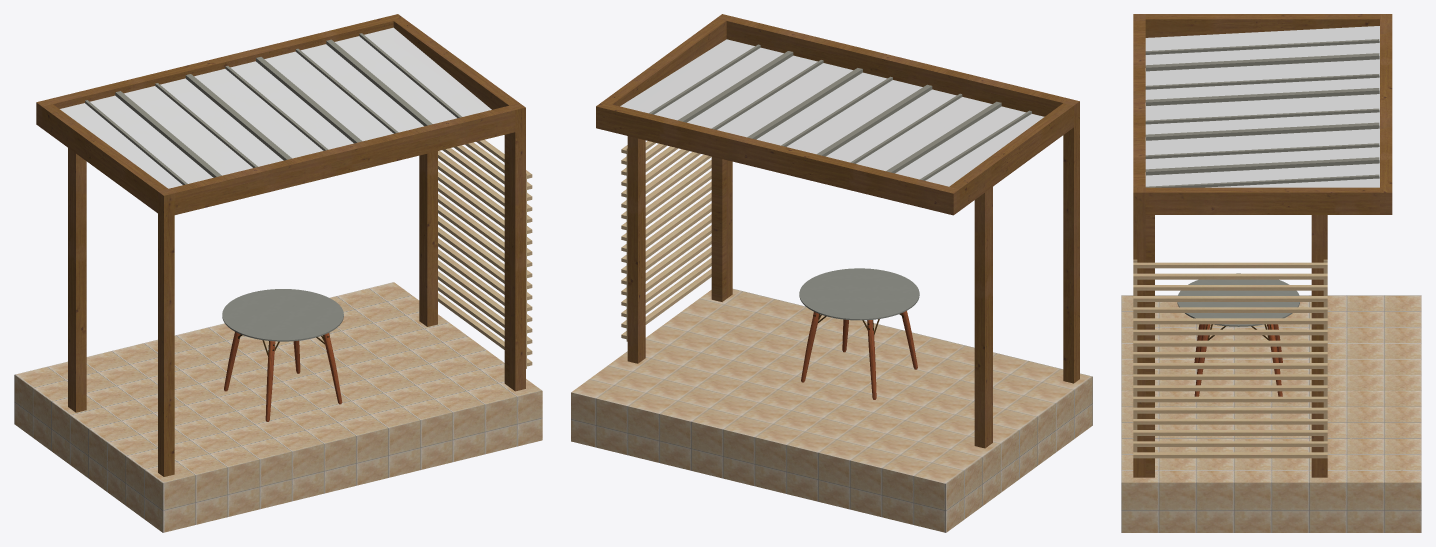
File: hyg27-g_naturalpine.fbx
3 renders of one model, left to right at view 1: azimuth 30°, elevation 25°; view 2: azimuth 150°, elevation 25°; view 3: azimuth 270°, elevation 25°, orthographic. The views are drawn at different scales.
Parts seen in each view (by area): view 1: hyg27-g_naturalpineファニチャーなし.001; view 2: hyg27-g_naturalpineファニチャーなし.001; view 3: hyg27-g_naturalpineファニチャーなし.001.
Boxes of the visible parts, left/top/right/bottom form: hyg27-g_naturalpineファニチャーなし.001: left=14, top=14, right=542, bottom=532; hyg27-g_naturalpineファニチャーなし.001: left=571, top=14, right=1092, bottom=532; hyg27-g_naturalpineファニチャーなし.001: left=1121, top=14, right=1421, bottom=532.
Bounding box in the file's own units: 360 × 300 × 244.
Materials: 11 (9 with a texture image).
